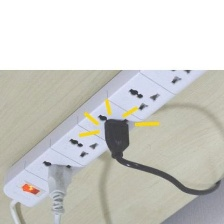three_eye_plug: (0, 32, 224, 210)
